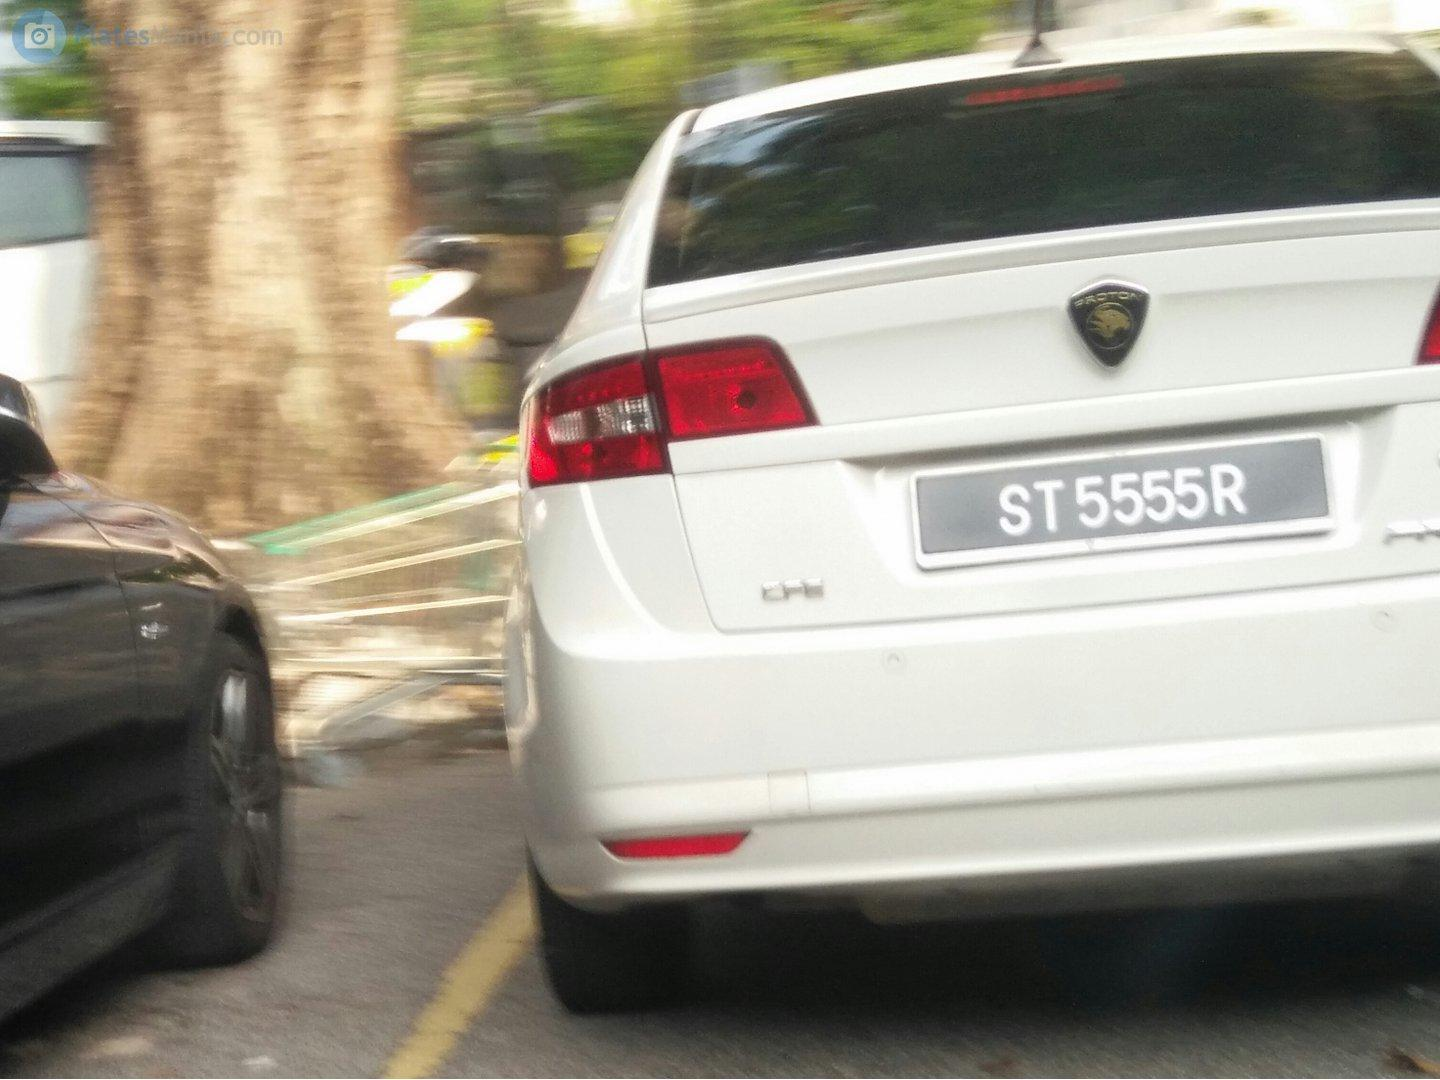License Plate: (919, 395, 1321, 476)
